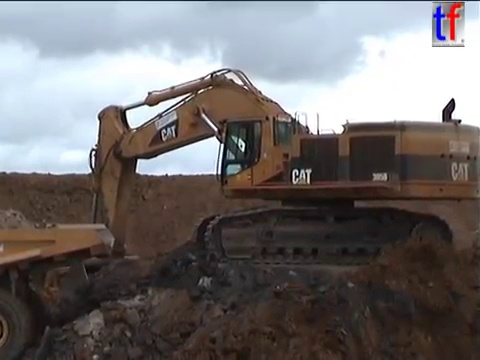excavator: (58, 64, 480, 321)
truck: (1, 219, 117, 360)
